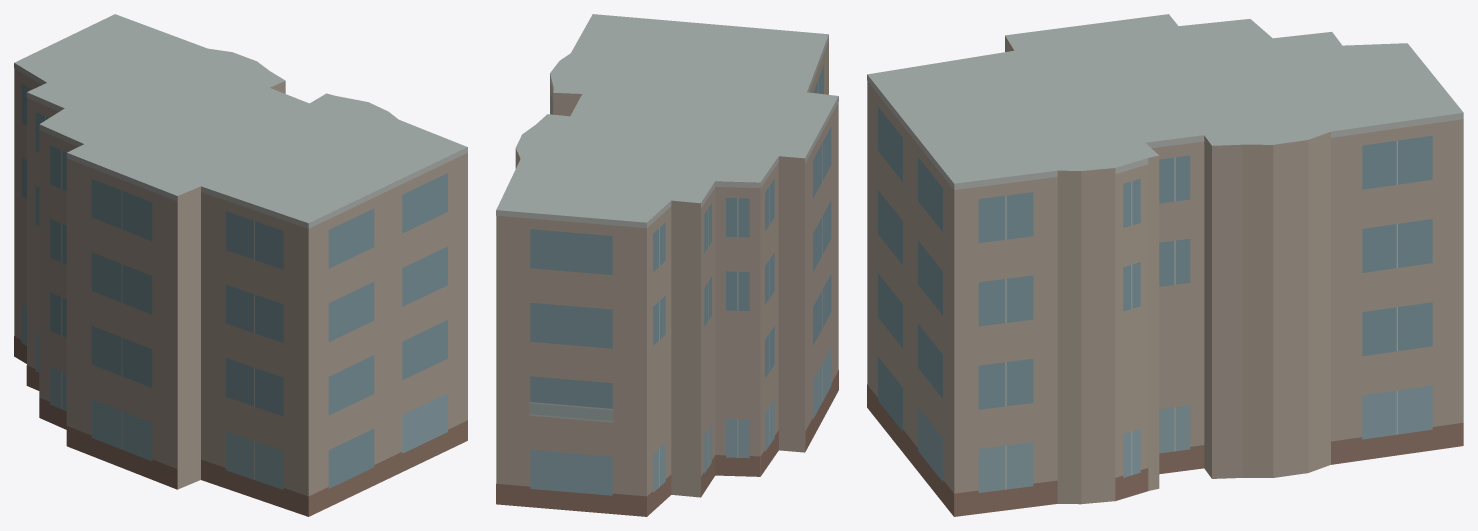
File: survey-upis-32618557.glb
3 renders of one model, left to right at view 1: azimuth 30°, elevation 25°; view 2: azimuth 150°, elevation 25°; view 3: azimuth 270°, elevation 25°, orthographic. The views are drawn at different scales.
Parts seen in each view (by area): view 1: survey-upis-32618557.tmp; view 2: survey-upis-32618557.tmp; view 3: survey-upis-32618557.tmp.
Boxes of the visible parts, bbox=[...] form: survey-upis-32618557.tmp: bbox=[14, 14, 467, 516]; survey-upis-32618557.tmp: bbox=[496, 14, 838, 516]; survey-upis-32618557.tmp: bbox=[867, 14, 1463, 516].
Size of the model in its own units: 13.99 by 12.8 by 20.78.
